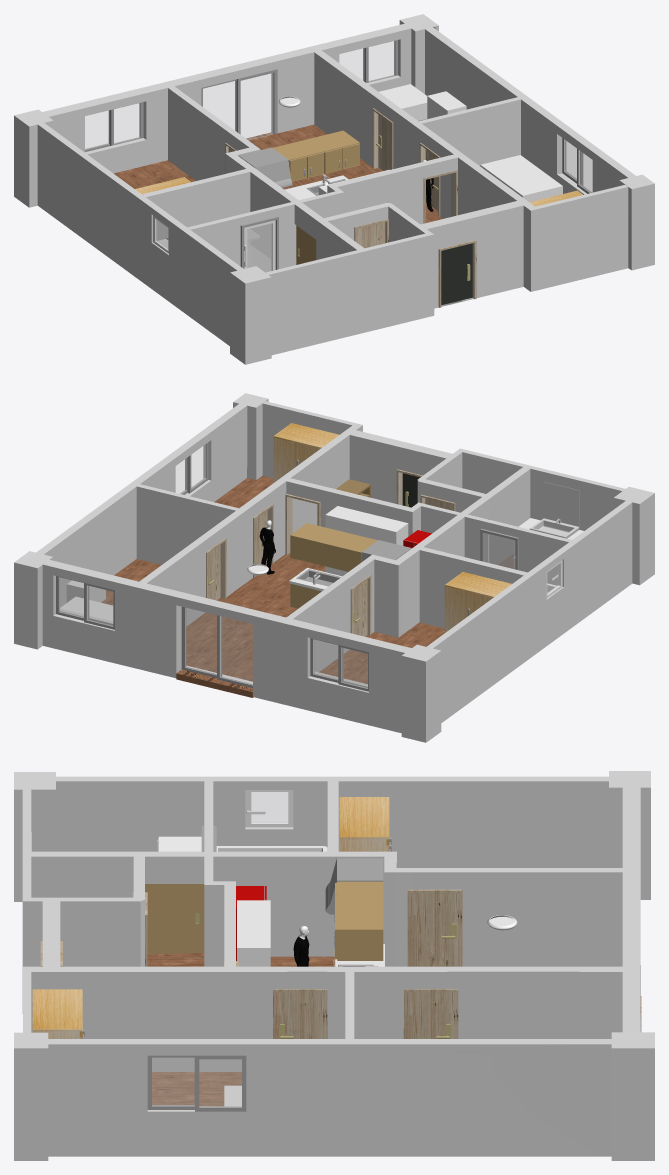
Rendered from Room_ver5.fbx.
3 views of the same model, one above another, from view 1: azimuth 30°, elevation 25°; view 2: azimuth 150°, elevation 25°; view 3: azimuth 270°, elevation 25° (orthographic). The views are drawn at different scales.
Parts seen in each view (by area): view 1: Wall1, polySurface74, polySurface131, polySurface65, polySurface153, polySurface166, polySurface133, polySurface268, polySurface135, polySurface151, polySurface244, polySurface59 (+12 smaller); view 2: Wall1, polySurface74, polySurface268, polySurface131, polySurface133, polySurface6, Mirror, polySurface137, polySurface149, polySurface135, polySurface151, polySurface222 (+15 smaller); view 3: Wall1, polySurface74, polySurface309, polySurface268, polySurface236, polySurface161, pasted__polySurface208, polySurface163, pasted__polySurface207, polySurface6, polySurface227, polySurface146 (+6 smaller).
Part boxes in pixels (<box>): Wall1: <box>14,14,654,364</box>; polySurface74: <box>114,119,442,271</box>; polySurface131: <box>236,69,277,140</box>; polySurface65: <box>480,155,562,202</box>; polySurface153: <box>441,243,472,305</box>; polySurface166: <box>244,220,275,272</box>; polySurface133: <box>201,79,236,131</box>; polySurface268: <box>272,130,359,164</box>; polySurface135: <box>110,102,143,145</box>; polySurface151: <box>364,40,397,82</box>; polySurface244: <box>239,147,292,188</box>; polySurface59: <box>379,84,427,120</box>; Wall1: <box>14,393,654,742</box>; polySurface74: <box>101,475,512,683</box>; polySurface268: <box>290,523,377,571</box>; polySurface131: <box>181,606,222,677</box>; polySurface133: <box>217,615,252,687</box>; polySurface6: <box>325,506,408,576</box>; Mirror: <box>543,482,579,526</box>; polySurface137: <box>338,645,368,691</box>; polySurface149: <box>84,583,114,629</box>; polySurface135: <box>310,638,343,682</box>; polySurface151: <box>56,576,89,620</box>; polySurface222: <box>444,586,474,631</box>; Wall1: <box>14,771,654,1160</box>; polySurface74: <box>147,890,462,1106</box>; polySurface309: <box>145,884,204,954</box>; polySurface268: <box>337,881,383,960</box>; polySurface236: <box>411,893,458,966</box>; polySurface161: <box>195,1055,246,1111</box>; pasted__polySurface208: <box>339,797,389,851</box>; polySurface163: <box>147,1055,194,1109</box>; pasted__polySurface207: <box>32,989,82,1038</box>; polySurface6: <box>237,900,270,966</box>; polySurface227: <box>407,992,455,1038</box>; polySurface146: <box>277,992,324,1038</box>.
Bounding box in the file's own units: 1523 × 292 × 1487.
Materials: 22 (5 with a texture image).
